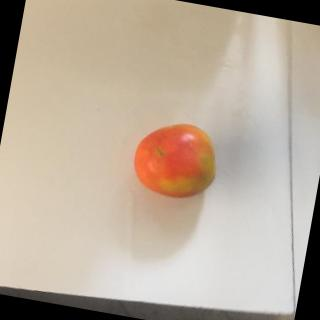Tomat: (116, 114, 235, 209)
